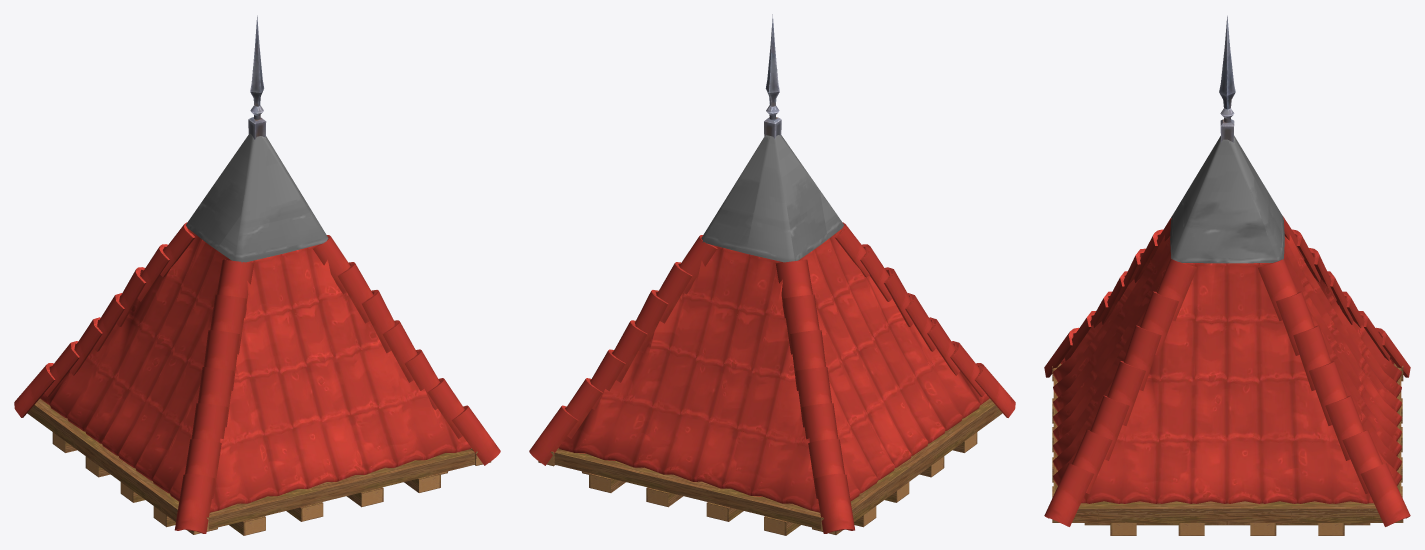
The model's file is tower_roof_red.glb.
3 views of the same model, side by side, from view 1: azimuth 30°, elevation 25°; view 2: azimuth 150°, elevation 25°; view 3: azimuth 270°, elevation 25° (orthographic). The views are drawn at different scales.
Visible parts, largest first — view 1: Roof_Tower_RoundTiles; view 2: Roof_Tower_RoundTiles; view 3: Roof_Tower_RoundTiles.
Boxes of the visible parts, <box> form: Roof_Tower_RoundTiles: <box>14,15,500,535</box>; Roof_Tower_RoundTiles: <box>529,14,1015,535</box>; Roof_Tower_RoundTiles: <box>1044,15,1410,535</box>.
Bounding box in the file's own units: 5.65 × 7.36 × 5.43.
4 materials, 4 textured.
